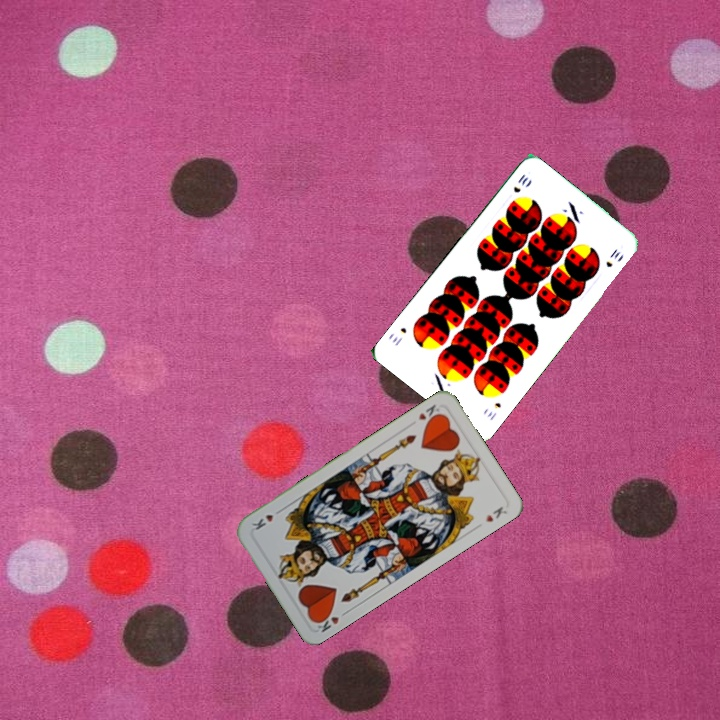HK: (311, 607, 351, 635), (414, 400, 444, 426)
S10: (509, 170, 531, 196), (483, 398, 503, 423)
